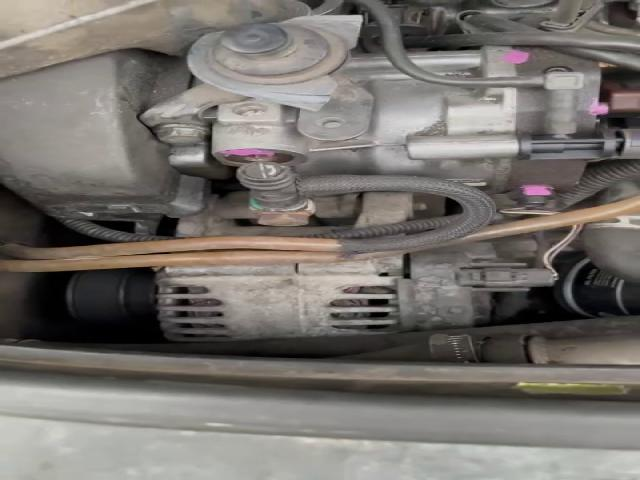alternator: (155, 232, 561, 342)
high_pressure_pump: (204, 42, 625, 206)
